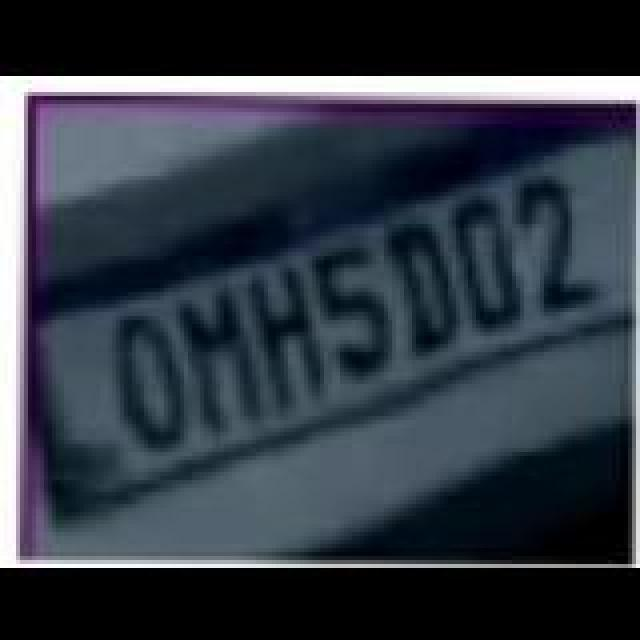2: (516, 176, 604, 312)
5: (316, 242, 396, 374)
D: (386, 216, 462, 352), (454, 196, 530, 332)
H: (250, 256, 334, 408)
M: (180, 286, 268, 434)
O: (112, 310, 192, 450)
